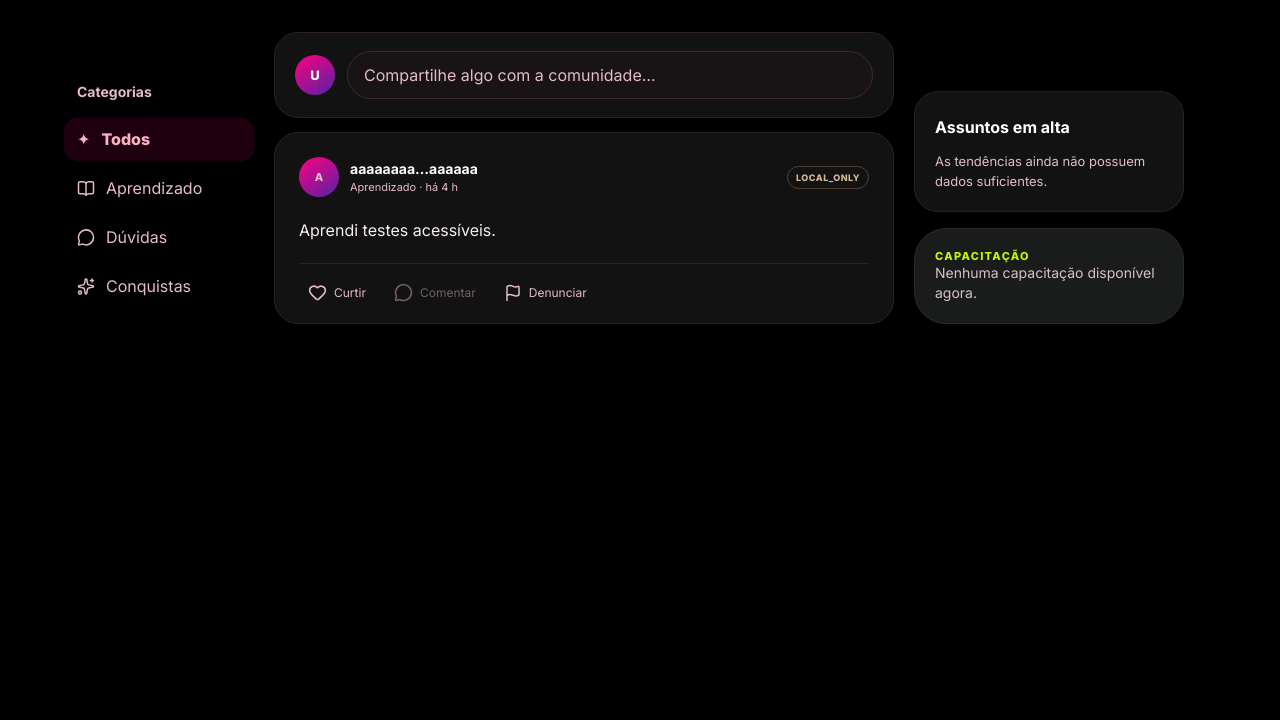
Test: Comunidade da Fase 8 › envia denúncia sem ocultar localmente o post
Click the button "Denunciar" at {"x": 545, "y": 293}, box [495,275,596,310]
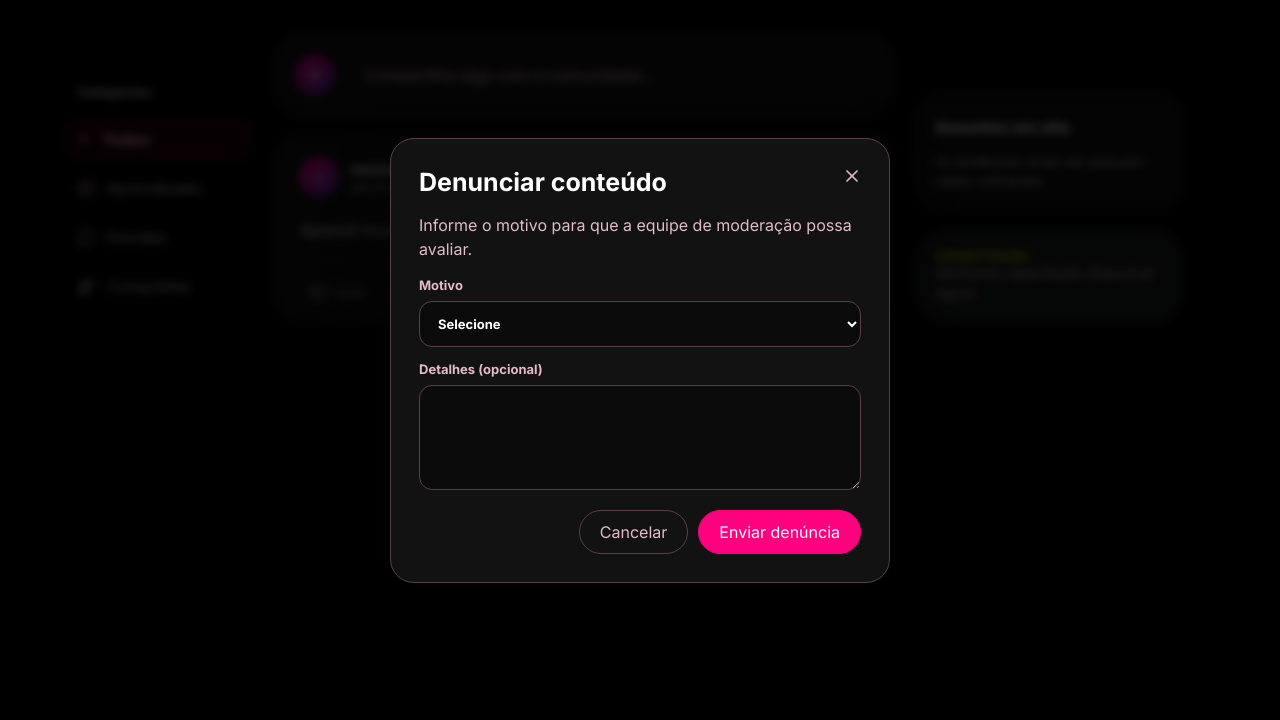
Select "Spam" in the dropdown labelled "Motivo" at {"x": 640, "y": 324}, box [419,300,861,346]
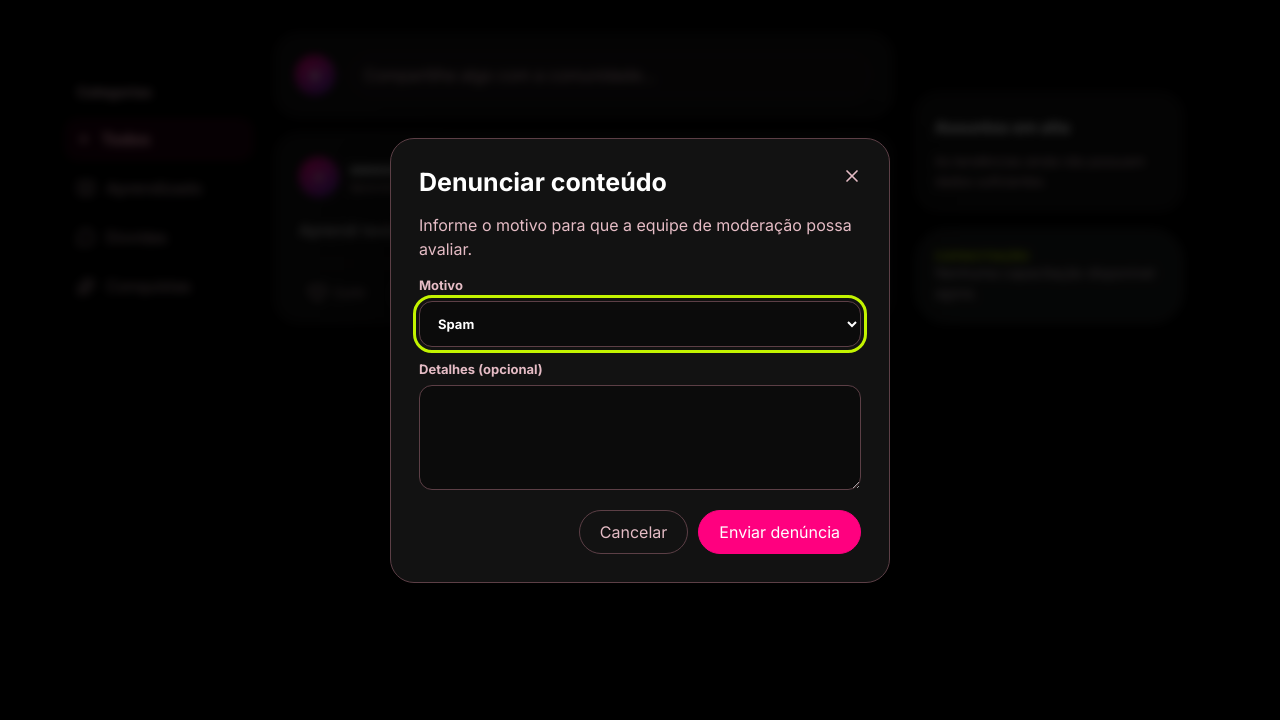
Click the button "Enviar denúncia" at {"x": 780, "y": 532}, box [698,510,861,554]
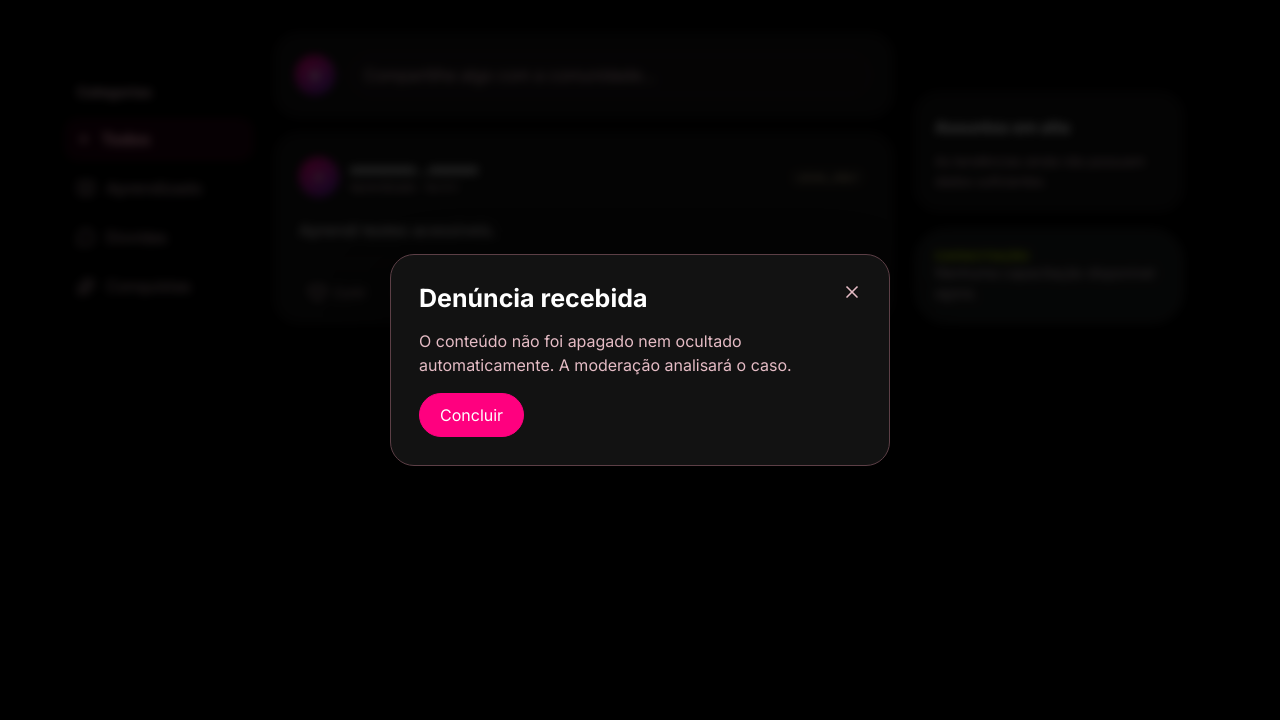
Now the heading "Denúncia recebida" is shown, box [419,283,647,313]
